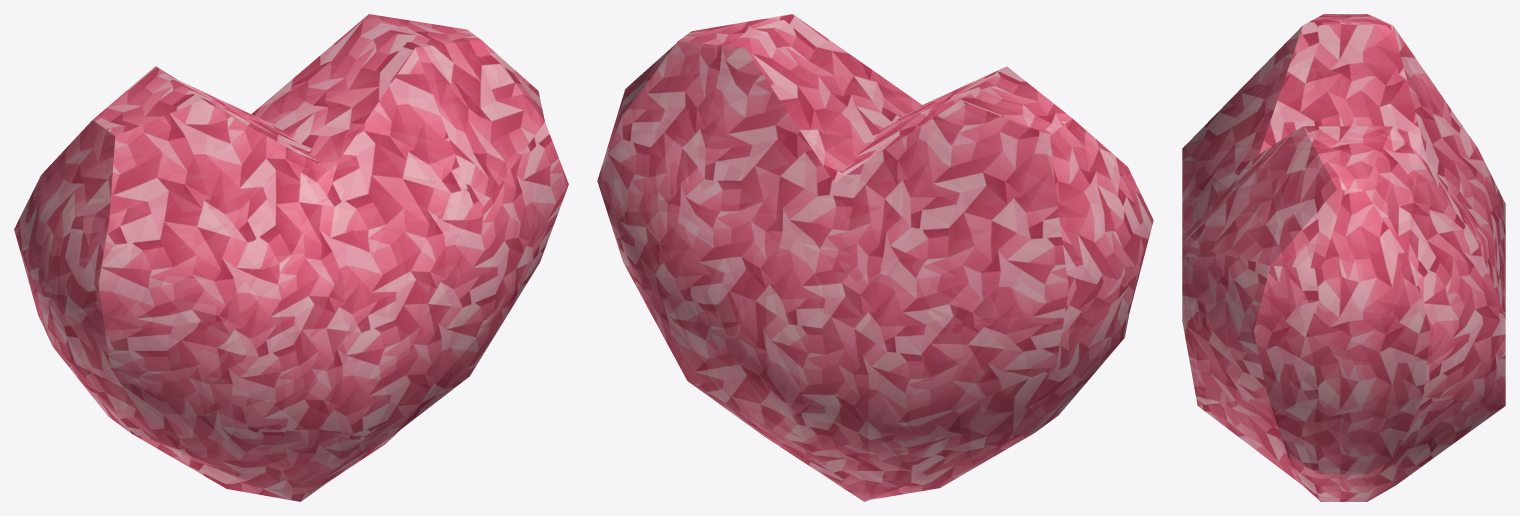
File: corazonSTMN.fbx
3 renders of one model, left to right at view 1: azimuth 30°, elevation 25°; view 2: azimuth 150°, elevation 25°; view 3: azimuth 270°, elevation 25°, orthographic. The views are drawn at different scales.
Visible parts, largest first — view 1: Box002; view 2: Box002; view 3: Box002.
Part boxes in pixels (box(x1,y1,x2,y2)): Box002: box(14, 14, 568, 501); Box002: box(597, 14, 1153, 501); Box002: box(1182, 14, 1505, 501).
Size of the model in its own units: 81.12 by 67.99 by 47.4.
Materials: 1 (1 with a texture image).
